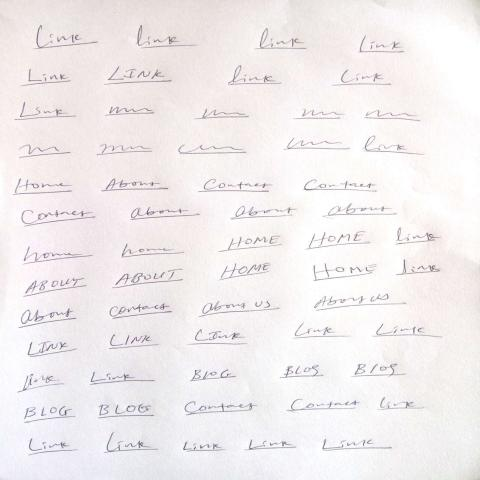Link: (32, 25, 101, 51), (313, 293, 405, 312), (20, 208, 97, 229), (135, 25, 198, 50), (199, 300, 279, 319), (112, 269, 186, 289), (22, 246, 95, 266), (305, 230, 372, 251), (103, 66, 173, 86), (361, 136, 425, 157), (18, 308, 77, 330), (14, 102, 78, 122), (23, 278, 87, 298), (313, 263, 380, 282), (219, 235, 285, 254), (226, 66, 284, 87), (197, 179, 273, 195), (181, 401, 257, 417), (105, 433, 160, 455), (129, 206, 200, 223), (110, 303, 177, 321), (24, 436, 81, 457), (217, 261, 273, 282), (229, 205, 298, 222), (319, 438, 397, 453), (21, 404, 75, 425), (330, 69, 392, 87), (255, 29, 308, 50), (89, 371, 154, 388), (13, 179, 74, 197), (322, 205, 399, 219), (286, 399, 363, 413), (188, 329, 247, 347), (119, 243, 185, 259), (26, 340, 81, 359), (20, 69, 73, 88), (94, 404, 156, 420), (101, 179, 171, 193), (16, 373, 62, 394), (372, 324, 436, 339), (292, 323, 347, 340), (302, 180, 379, 192), (108, 334, 162, 351), (283, 138, 351, 151), (358, 36, 406, 54), (393, 228, 441, 246), (395, 260, 445, 277), (351, 364, 405, 379), (183, 439, 228, 455), (193, 109, 252, 121), (364, 111, 422, 123), (279, 365, 325, 380), (245, 440, 300, 452), (104, 106, 157, 118), (378, 398, 425, 411), (293, 109, 347, 120)
